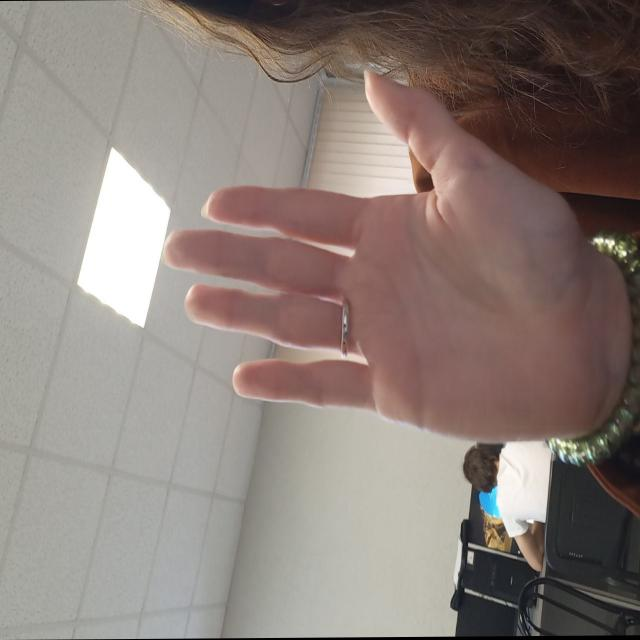v: (162, 66, 568, 432)
